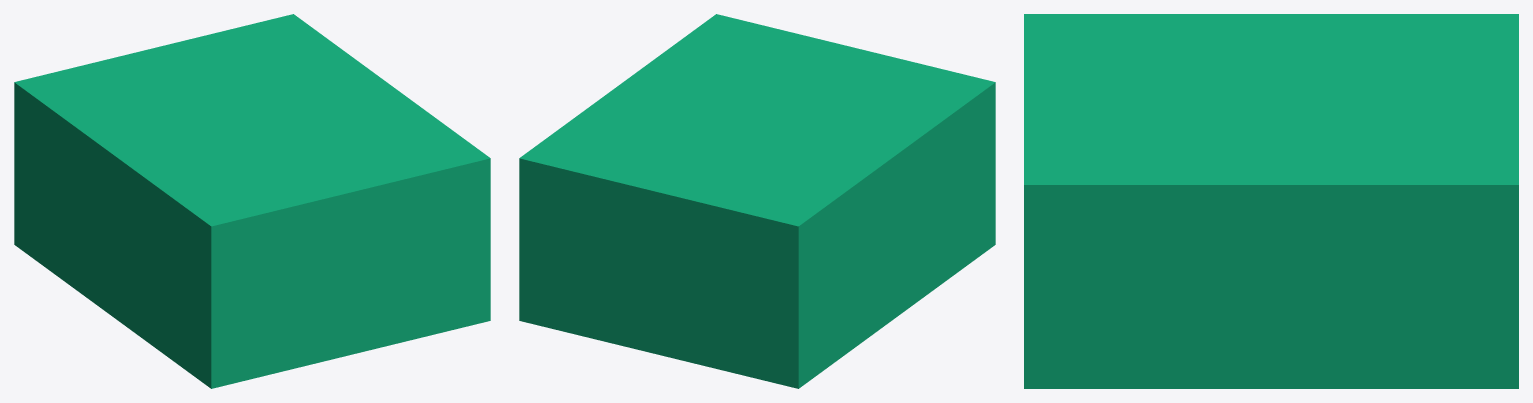
The model's file is plenum-mixing-box.glb.
The picture shows the model from 3 angles, left to right: view 1: azimuth 30°, elevation 25°; view 2: azimuth 150°, elevation 25°; view 3: azimuth 270°, elevation 25°; orthographic projection. The views are drawn at different scales.
Parts seen in each view (by area): view 1: hvac-plenum-mixing-box; view 2: hvac-plenum-mixing-box; view 3: hvac-plenum-mixing-box.
Boxes of the visible parts, box(x1,y1,x2,y2) form: hvac-plenum-mixing-box: box(14, 14, 490, 388); hvac-plenum-mixing-box: box(519, 14, 995, 388); hvac-plenum-mixing-box: box(1024, 14, 1518, 388).
Size of the model in its own units: 0.4572 by 0.254 by 0.5588.
